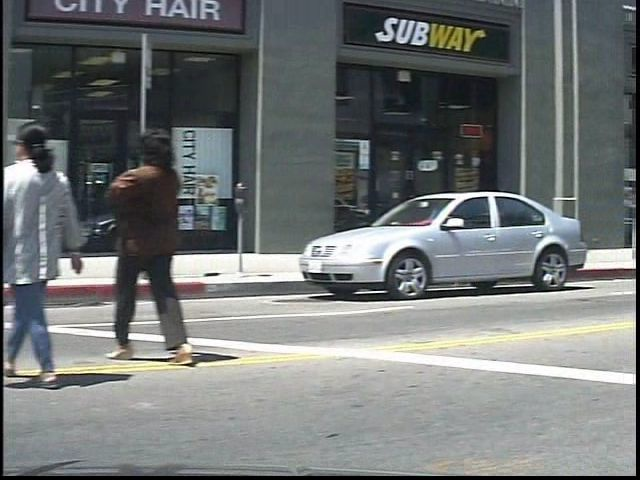person: (8, 115, 106, 389), (113, 121, 212, 367)
